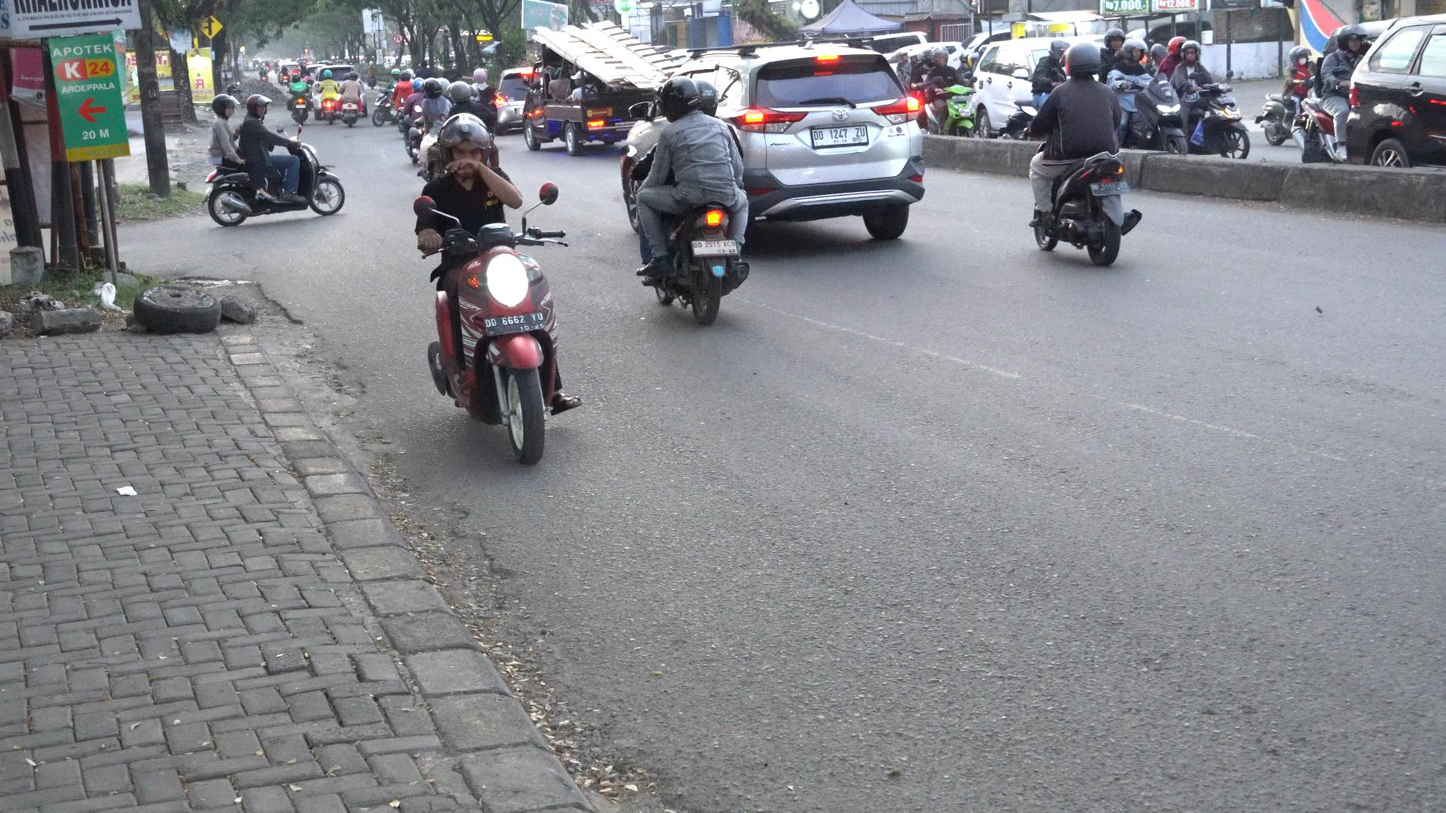number-plate: (477, 304, 544, 343)
